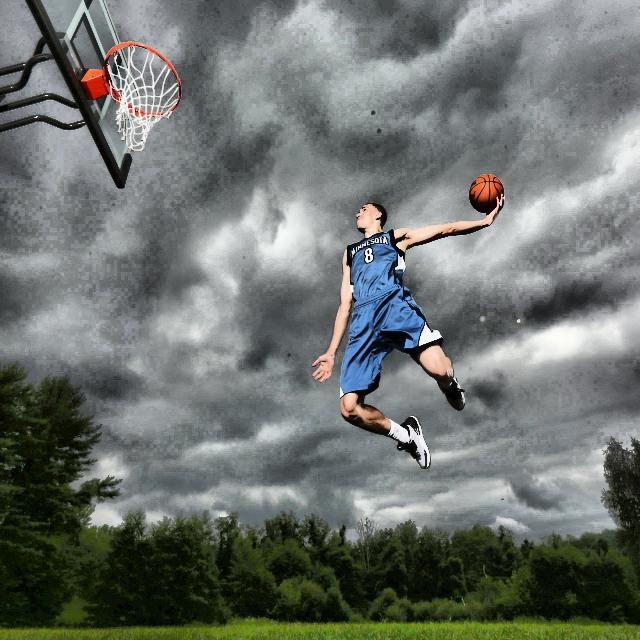board: (469, 174, 505, 212)
rim: (101, 42, 182, 154)
